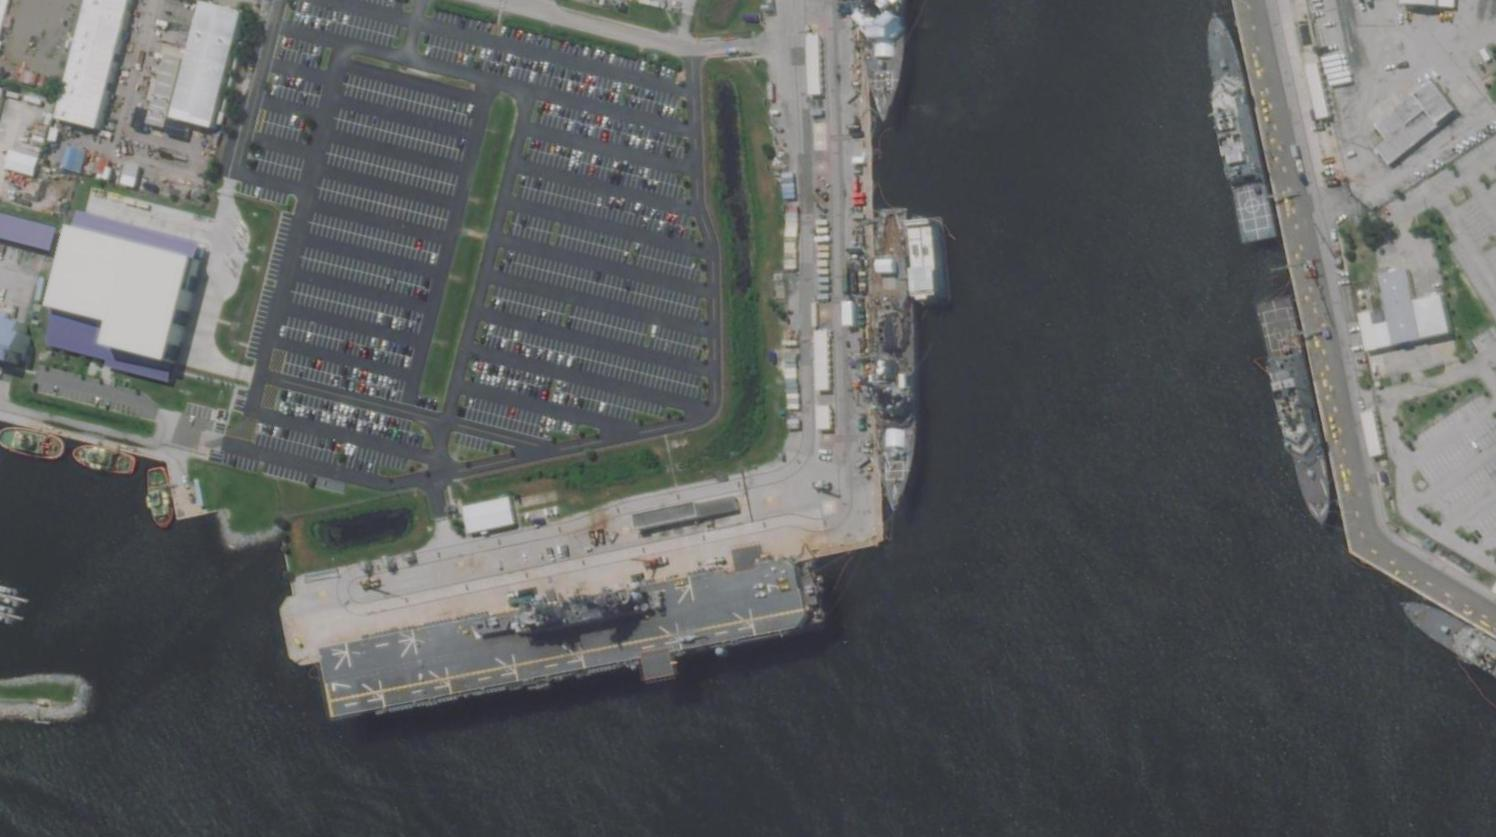fregate: (855, 192, 951, 517)
patrol: (1250, 288, 1344, 530), (1199, 6, 1282, 250)
pha: (313, 547, 835, 730)
